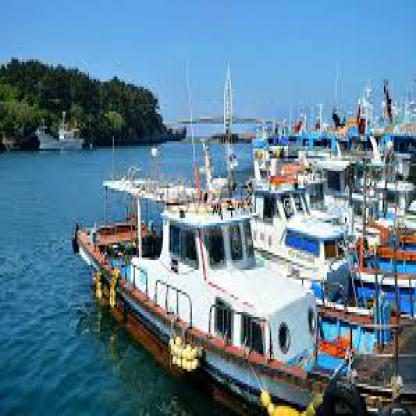fish-b: (67, 154, 390, 414)
